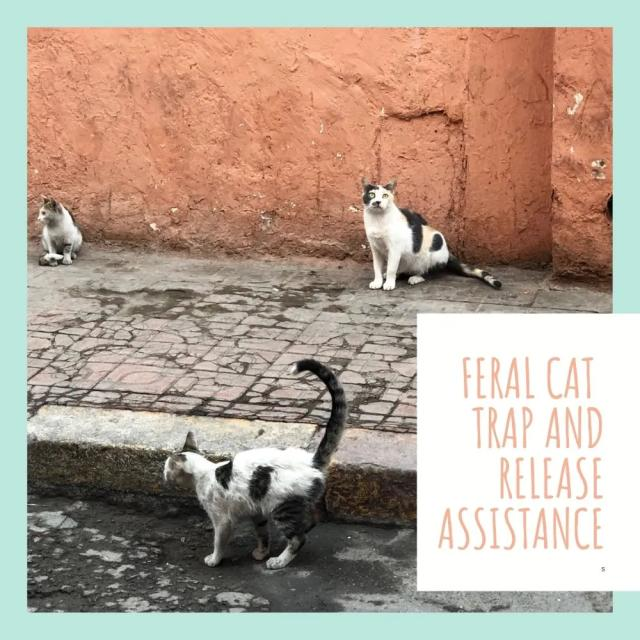cat: (164, 359, 348, 569), (361, 178, 501, 289), (38, 196, 82, 266)
